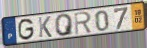0: (94, 10, 112, 32)
7: (114, 6, 129, 31)
G: (17, 18, 35, 42)
K: (38, 15, 53, 38)
Q: (54, 13, 75, 38)
R: (73, 11, 93, 36)
